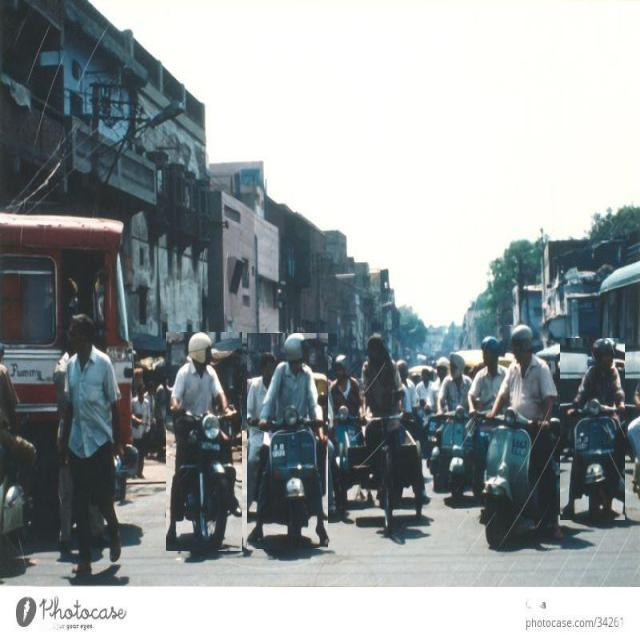motorcycle: (482, 325, 562, 548), (248, 334, 328, 549), (166, 333, 242, 551), (560, 339, 625, 520)
